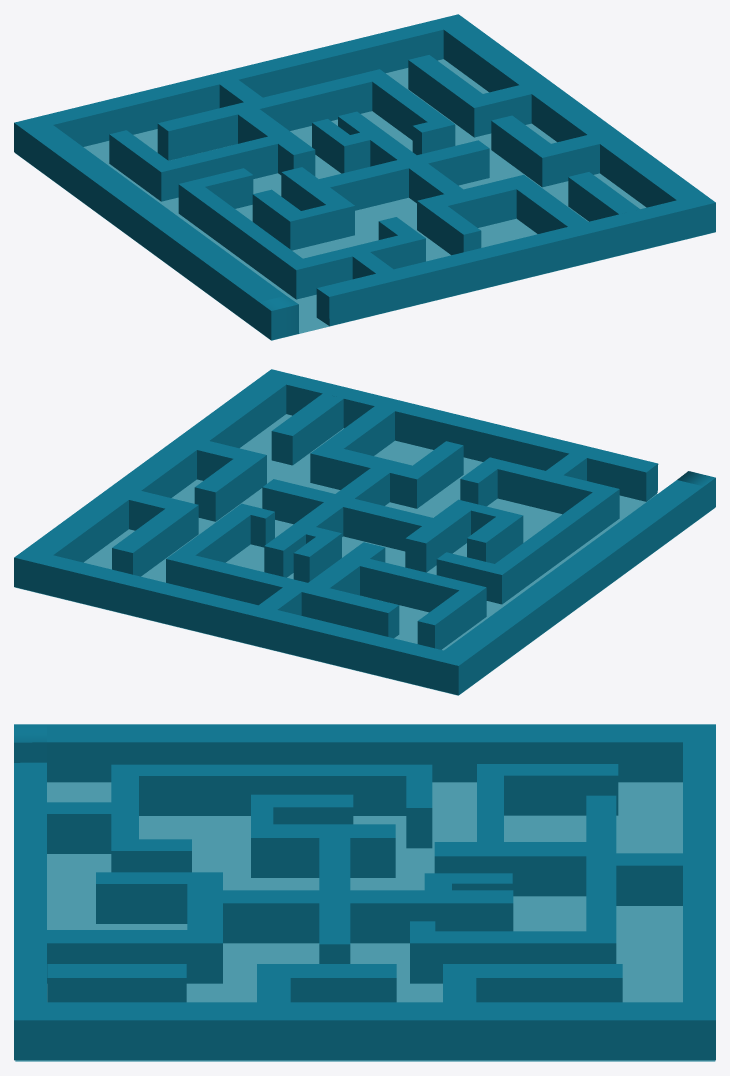
3 renders of one model, top to bottom at view 1: azimuth 30°, elevation 25°; view 2: azimuth 150°, elevation 25°; view 3: azimuth 270°, elevation 25°, orthographic. The views are drawn at different scales.
Parts seen in each view (by area): view 1: 对象003, 对象002, Box002, Plane001, Box005, Box004, Box003; view 2: 对象003, 对象002, Box002, Plane001, Box005, Box004, Box003; view 3: 对象003, Plane001, 对象002, Box002, Box005, Box003, Box004.
Part boxes in pixels (box(x1,y1,x2,y2)): 对象003: box(178, 23, 715, 326); 对象002: box(14, 14, 469, 201); Box002: box(25, 125, 298, 340); Plane001: box(15, 59, 714, 340); Box005: box(408, 55, 531, 137); Box004: box(491, 115, 599, 187); Box003: box(568, 172, 639, 221); 对象003: box(26, 369, 658, 604); 对象002: box(14, 503, 486, 695); Box002: box(444, 471, 715, 686); Plane001: box(14, 414, 714, 695); Box005: box(112, 491, 198, 576); Box004: box(194, 441, 266, 521); Box003: box(271, 393, 343, 465); 对象003: box(14, 762, 686, 1060); Plane001: box(15, 782, 715, 1061); 对象002: box(410, 724, 715, 1060); Box002: box(14, 724, 686, 782); Box005: box(443, 964, 622, 1002); Box003: box(47, 964, 186, 1002); Box004: box(257, 964, 396, 1002).
Size of the model in its own units: 350 by 22.65 by 351.
